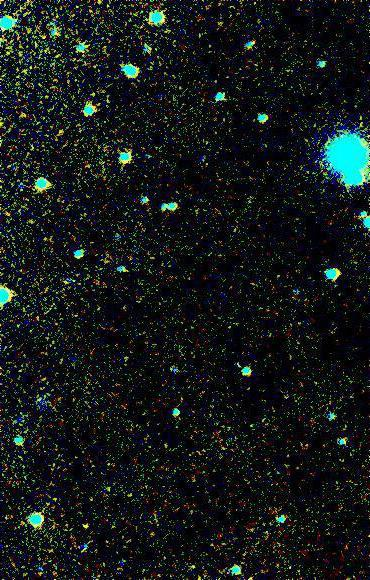star: (67, 511, 97, 541)
